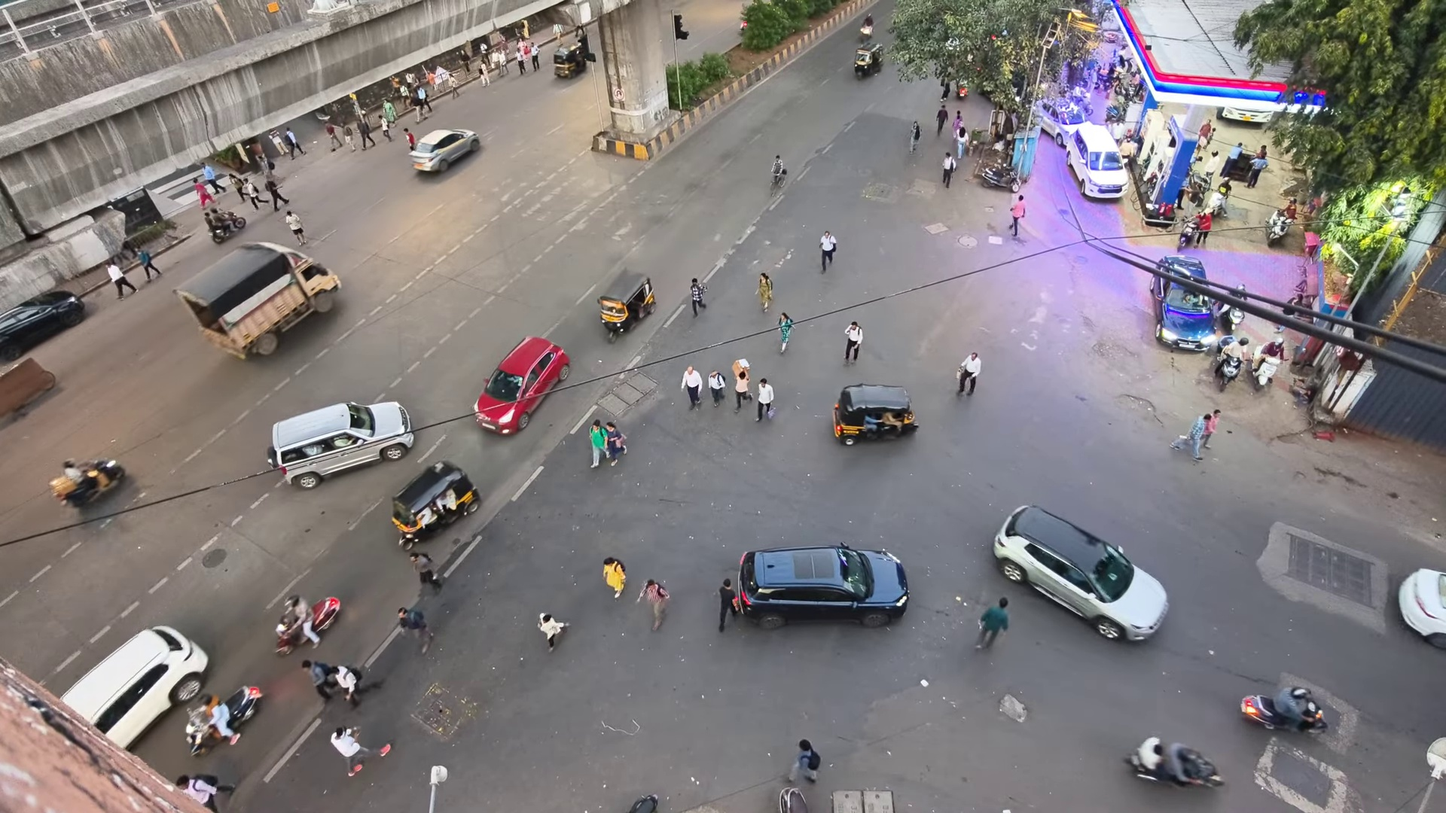driving: (993, 505, 1168, 640), (176, 243, 340, 358), (737, 546, 908, 629), (475, 336, 569, 434), (1150, 275, 1217, 351), (409, 129, 480, 172)
walking: (331, 728, 391, 775), (175, 775, 233, 811), (1170, 413, 1210, 461), (635, 579, 669, 630), (398, 607, 434, 653), (975, 598, 1008, 648), (206, 696, 239, 744), (301, 660, 334, 700), (789, 739, 820, 781), (409, 552, 441, 591), (332, 667, 361, 707), (538, 613, 569, 650), (107, 260, 136, 299), (957, 352, 981, 394), (718, 579, 737, 632), (602, 557, 626, 598), (732, 358, 750, 410), (605, 422, 626, 464), (682, 365, 702, 409), (264, 178, 289, 212), (1221, 142, 1243, 179), (1200, 409, 1220, 448), (755, 379, 774, 420), (590, 419, 606, 467), (138, 248, 161, 281), (844, 321, 862, 363), (414, 85, 434, 122), (285, 210, 306, 245), (820, 230, 837, 272), (193, 178, 215, 210), (1246, 155, 1268, 187), (707, 370, 726, 407), (1009, 194, 1025, 237), (1194, 209, 1213, 245), (358, 117, 377, 150), (757, 273, 773, 312), (241, 179, 261, 210), (690, 278, 706, 316), (285, 128, 304, 160), (735, 369, 749, 411), (203, 163, 221, 193), (779, 312, 792, 353), (325, 123, 343, 151), (942, 152, 956, 187), (227, 173, 243, 202), (956, 126, 969, 160), (492, 47, 507, 76), (382, 99, 398, 125), (936, 104, 947, 136), (910, 120, 920, 154), (343, 123, 355, 151), (516, 42, 526, 74), (380, 117, 392, 142), (529, 41, 539, 70), (403, 128, 416, 149)
